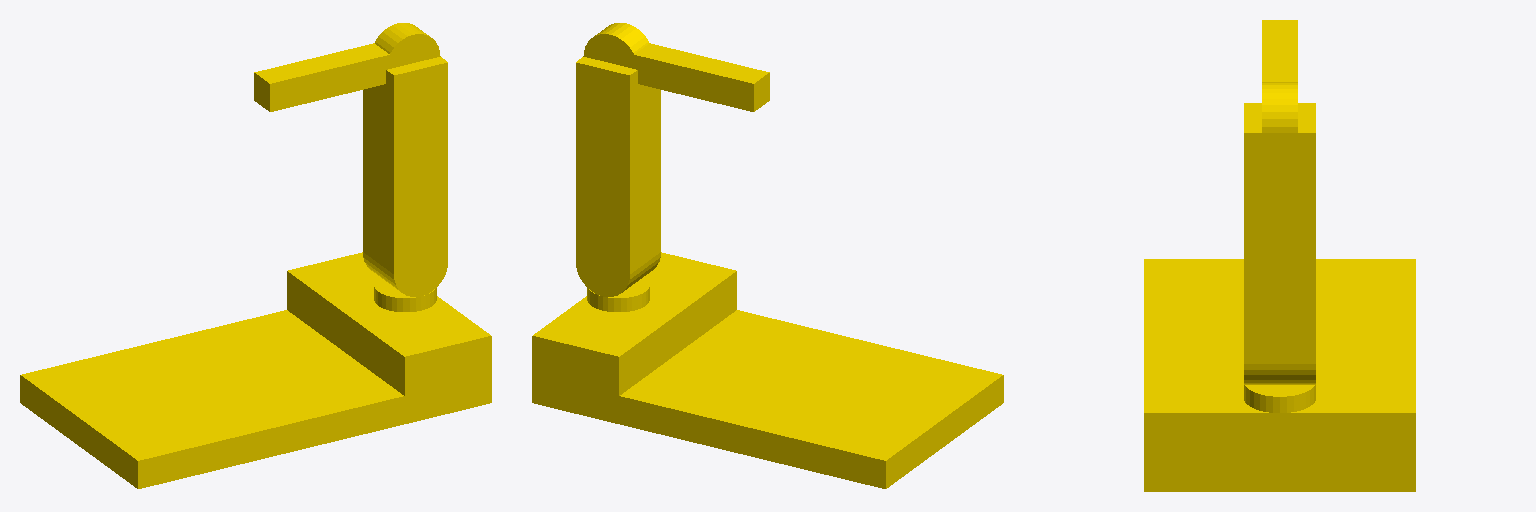
URDF robot description (rover_crane):
<?xml version="1.0" ?>
<robot name="rover_crane">

    <material name="gold">
        <color rgba="1 0.882 0 1"/>
    </material>

    <link name="rover_base_link">        
        <visual>
            <origin xyz="0 0 0.125" rpy="0 0 0" />
            <geometry>
               <box size="2.6 1.5 0.2"/>
            </geometry>
            <material name="gold"/>
        </visual>
        <collision>
            <origin xyz="0 0 0.125" rpy="0 0 0" />
            <geometry>
                <box size="2.6 1.5 0.2"/>
            </geometry>
        </collision>

        <visual>
            <!-- 1.3 - 0.32 -->
            <origin xyz=".98 0 0.35" rpy="0 0 0" />
            <geometry>
               <box size="0.64 1.5 0.3"/>
            </geometry>
            <material name="gold"/>
        </visual>
        <collision>
            <origin xyz=".98 0 0.35" rpy="0 0 0" />
            <geometry>
                <box size="0.64 1.5 0.3"/>
            </geometry>
        </collision>  
    </link>
    
    <link name="crane_base_link"/>

    <joint name="fix_to_chassis" type="fixed">
        <parent link="rover_base_link"/>
        <child link="crane_base_link"/>
        <origin xyz="1.1 0 0.5" rpy="0 0 0"/>
    </joint>

    <link name="crane_yaw">
        <visual>
            <origin xyz="0 0 0.05" rpy="0 0 0" />
            <geometry>
               <cylinder length="0.1" radius="0.2"/>
            </geometry>
            <material name="gold"/>
        </visual>
        <collision>
            <origin xyz="0 0 0.05" rpy="0 0 0" />
            <geometry>
                <cylinder length="0.1" radius="0.2"/>
            </geometry>
        </collision>    
    </link>
    
    <joint name="joint0_1" type="revolute">
        <parent link="crane_base_link"/>
        <child link="crane_yaw"/>
        <origin xyz="0 0 0" rpy="0 0 0"/>
        <axis xyz="0 0 1"/>
        <limit lower="-0.523599" upper="0.523599" effort="0" velocity="0"/>
    </joint>

    <link name="crane_link1">
        <visual>
            <origin xyz="0 0 0" rpy="1.5708 0 0" />
            <geometry>
               <cylinder length="0.4" radius="0.2"/>
            </geometry>
            <material name="gold"/>
        </visual>
        <collision>
            <origin xyz="0 0 0" rpy="1.5708 0 0" />
            <geometry>
                <cylinder length="0.4" radius="0.2"/>
            </geometry>
        </collision>  

        <visual>
            <origin xyz="-0.7 0 0" rpy="0 0 0" />
            <geometry>
               <box size="1.4 0.4 0.4"/>
            </geometry>
            <material name="gold"/>
        </visual>
        <collision>
            <origin xyz="-0.7 0 0" rpy="0 0 0" />
            <geometry>
                <box size="1.4 0.4 0.4"/>
            </geometry>
        </collision>
    </link>


    <joint name="joint0_2" type="revolute">
        <parent link="crane_yaw"/> 
        <child link="crane_link1"/>
        <origin xyz="0 0 0.3" rpy="0 1.5708 0"/>
        <axis xyz="0 1 0"/>
        <limit lower="0.0" upper="1.5708" effort="0" velocity="0"/>
    </joint>


    <link name="crane_link2">
        <visual>
            <origin xyz="0.55 0 0" rpy="0 0 0" />
            <geometry>
               <box size="1.1 0.35 0.35"/>
            </geometry>
            <material name="gold"/>
        </visual>
        <collision>
            <origin xyz="0.55 0 0" rpy="0 0 0" />
            <geometry>
                <box size="1.1 0.35 0.35"/>
            </geometry>
        </collision>
    </link>

    <joint name="joint0_3" type="prismatic">
        <parent link="crane_link1"/>
        <child link="crane_link2"/>
        <origin xyz="-1.4 0 0" rpy="0 0 0"/>
        <axis xyz="-1 0 0"/>
        <limit lower="0.0" upper="1.1" effort="0" velocity="0"/>
    </joint>

    <link name="crane_link3">
        <visual>
            <origin xyz="0.55 0 0" rpy="0 0 0" />
            <geometry>
               <box size="1.1 0.3 0.3"/>
            </geometry>
            <material name="gold"/>
        </visual>
        <collision>
            <origin xyz="0.55 0 0" rpy="0 0 0" />
            <geometry>
                <box size="1.1 0.3 0.3"/>
            </geometry>
        </collision>
    </link>

    <joint name="joint0_4" type="prismatic">
        <parent link="crane_link2"/>
        <child link="crane_link3"/>
        <origin xyz="0 0 0" rpy="0 0 0"/>
        <axis xyz="-1 0 0"/>
        <limit lower="0.0" upper="1.1" effort="0" velocity="0"/>
    </joint>

    <link name="crane_link4">
        <visual>
            <origin xyz="0.55 0 0" rpy="0 0 0" />
            <geometry>
               <box size="1.1 0.25 0.25"/>
            </geometry>
            <material name="gold"/>
        </visual>
        <collision>
            <origin xyz="0.55 0 0" rpy="0 0 0" />
            <geometry>
                <box size="1.1 0.25 0.25"/>
            </geometry>
        </collision>
    </link>

    <joint name="joint0_5" type="prismatic">
        <parent link="crane_link3"/>
        <child link="crane_link4"/>
        <origin xyz="0 0 0" rpy="0 0 0"/>
        <axis xyz="-1 0 0"/>
        <limit lower="0.0" upper="1.1" effort="0" velocity="0"/>
    </joint>

    <link name="tip">
        <visual>
            <origin xyz="0 0 0" rpy="1.5708 0 0" />
            <geometry>
               <cylinder length="0.2" radius="0.2"/>
            </geometry>
            <material name="gold"/>
        </visual>
        <collision>
            <origin xyz="0 0 0" rpy="1.5708 0 0" />
            <geometry>
               <cylinder length="0.2" radius="0.2"/>
            </geometry>
            <material name="gold"/>
        </collision>
        
        <visual>
            <!-- 0.5 + 0.054 -->
            <origin xyz="0 0 -0.554" rpy="0 0 0" />
            <geometry>
               <box size="0.2 0.2 1.0"/>
            </geometry>
            <material name="gold"/>
        </visual>
        <collision>
            <origin xyz="0 0 -0.554" rpy="0 0 0" />
            <geometry>
               <box size="0.2 0.2 1.0"/>
            </geometry>
            <material name="gold"/>
        </collision>
    </link>

    <joint name="tip_joint" type="revolute">
        <parent link="crane_link4"/>
        <child link="tip"/>
        <origin xyz="0 0 0" rpy="0 0 0"/>
        <axis xyz="0 1 0"/>
        <limit lower="0.0" upper="1.1" effort="0" velocity="0"/>
    </joint>

</robot>

--- Facts derived from the render (not from the file) ---
Views: 3 orthographic renders of the robot side by side, from view 1: azimuth 30°, elevation 25°; view 2: azimuth 150°, elevation 25°; view 3: azimuth 270°, elevation 25°.
Model rover_crane with 8 links and 7 joints (3 revolute, 3 prismatic, 1 fixed), rooted at rover_base_link, posed all joints at 0.
Visible links, largest first — view 1: rover_base_link, crane_link1, tip, crane_yaw; view 2: rover_base_link, crane_link1, tip, crane_yaw; view 3: rover_base_link, crane_link1, tip, crane_yaw.
Link boxes in pixels (box(x1,y1,x2,y2)): rover_base_link: box(20, 252, 491, 488); crane_link1: box(363, 57, 447, 296); tip: box(254, 23, 440, 111); crane_yaw: box(374, 277, 436, 311); rover_base_link: box(532, 252, 1003, 488); crane_link1: box(576, 57, 660, 296); tip: box(583, 23, 769, 111); crane_yaw: box(587, 277, 649, 311); rover_base_link: box(1144, 259, 1415, 491); crane_link1: box(1244, 103, 1315, 384); tip: box(1262, 20, 1297, 132); crane_yaw: box(1244, 385, 1315, 412).
Bounding box of the posed robot: 2.6 × 1.5 × 2.38 m (x, y, z).
Geometry: primitives only (box / cylinder / sphere), no mesh files.